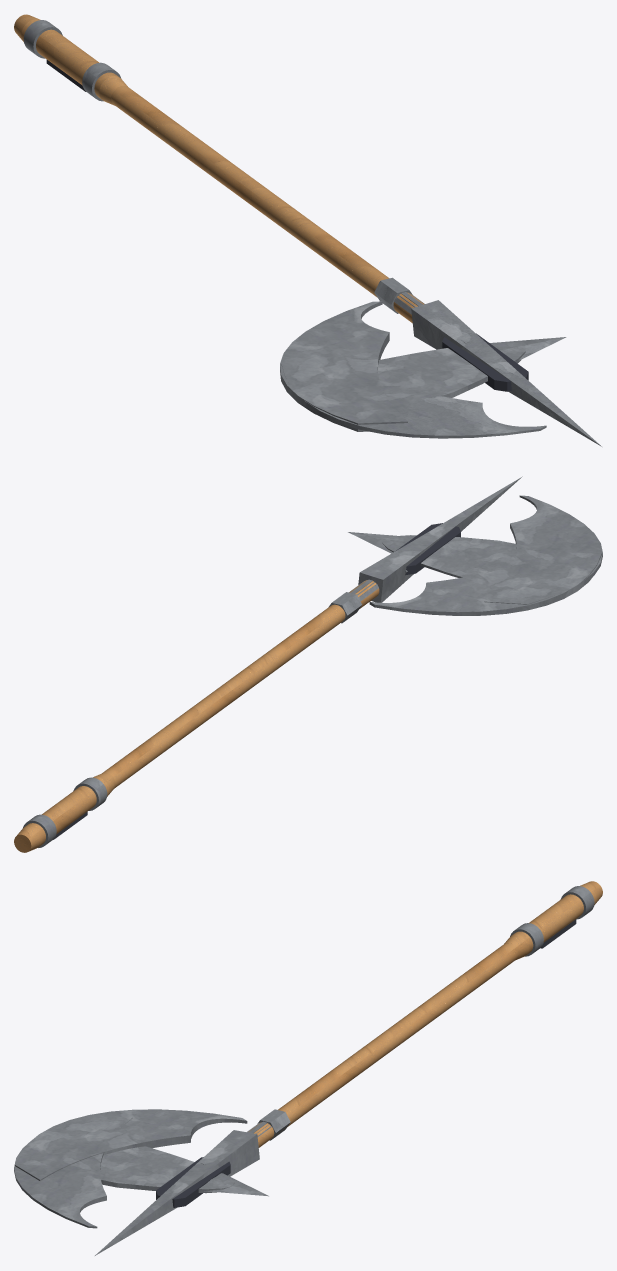
File: Halberd 3.fbx
3 renders of one model, top to bottom at view 1: azimuth 30°, elevation 25°; view 2: azimuth 150°, elevation 25°; view 3: azimuth 330°, elevation 25°, orthographic. The views are drawn at different scales.
Parts seen in each view (by area): view 1: blade_scimitar (×3), attachment_barrelThin, blade_top (×2), attachment_barrel, guard, clipBarrel; view 2: blade_scimitar (×3), attachment_barrelThin, attachment_barrel, blade_top, clipBarrel, guard; view 3: blade_scimitar (×3), attachment_barrelThin, blade_top (×2), attachment_barrel, guard, clipBarrel.
Boxes of the visible parts, x1=… form: blade_scimitar (×3): x1=280, y1=301, x2=546, y2=438; attachment_barrelThin: x1=111, y1=86, x2=423, y2=322; blade_top (×2): x1=411, y1=300, x2=601, y2=446; attachment_barrel: x1=14, y1=14, x2=127, y2=105; guard: x1=442, y1=333, x2=528, y2=391; clipBarrel: x1=374, y1=277, x2=470, y2=343; blade_scimitar (×3): x1=369, y1=495, x2=602, y2=615; attachment_barrelThin: x1=102, y1=580, x2=379, y2=788; attachment_barrel: x1=14, y1=773, x2=115, y2=852; blade_top: x1=358, y1=476, x2=522, y2=602; clipBarrel: x1=329, y1=550, x2=415, y2=623; guard: x1=395, y1=523, x2=460, y2=575; blade_scimitar (×3): x1=14, y1=1109, x2=247, y2=1228; attachment_barrelThin: x1=249, y1=943, x2=519, y2=1147; blade_top (×2): x1=95, y1=1130, x2=268, y2=1255; attachment_barrel: x1=504, y1=881, x2=602, y2=959; guard: x1=156, y1=1157, x2=230, y2=1207; clipBarrel: x1=201, y1=1109, x2=290, y2=1164.
Bounding box in the file's own units: 7.93 × 0.8863 × 29.66.
